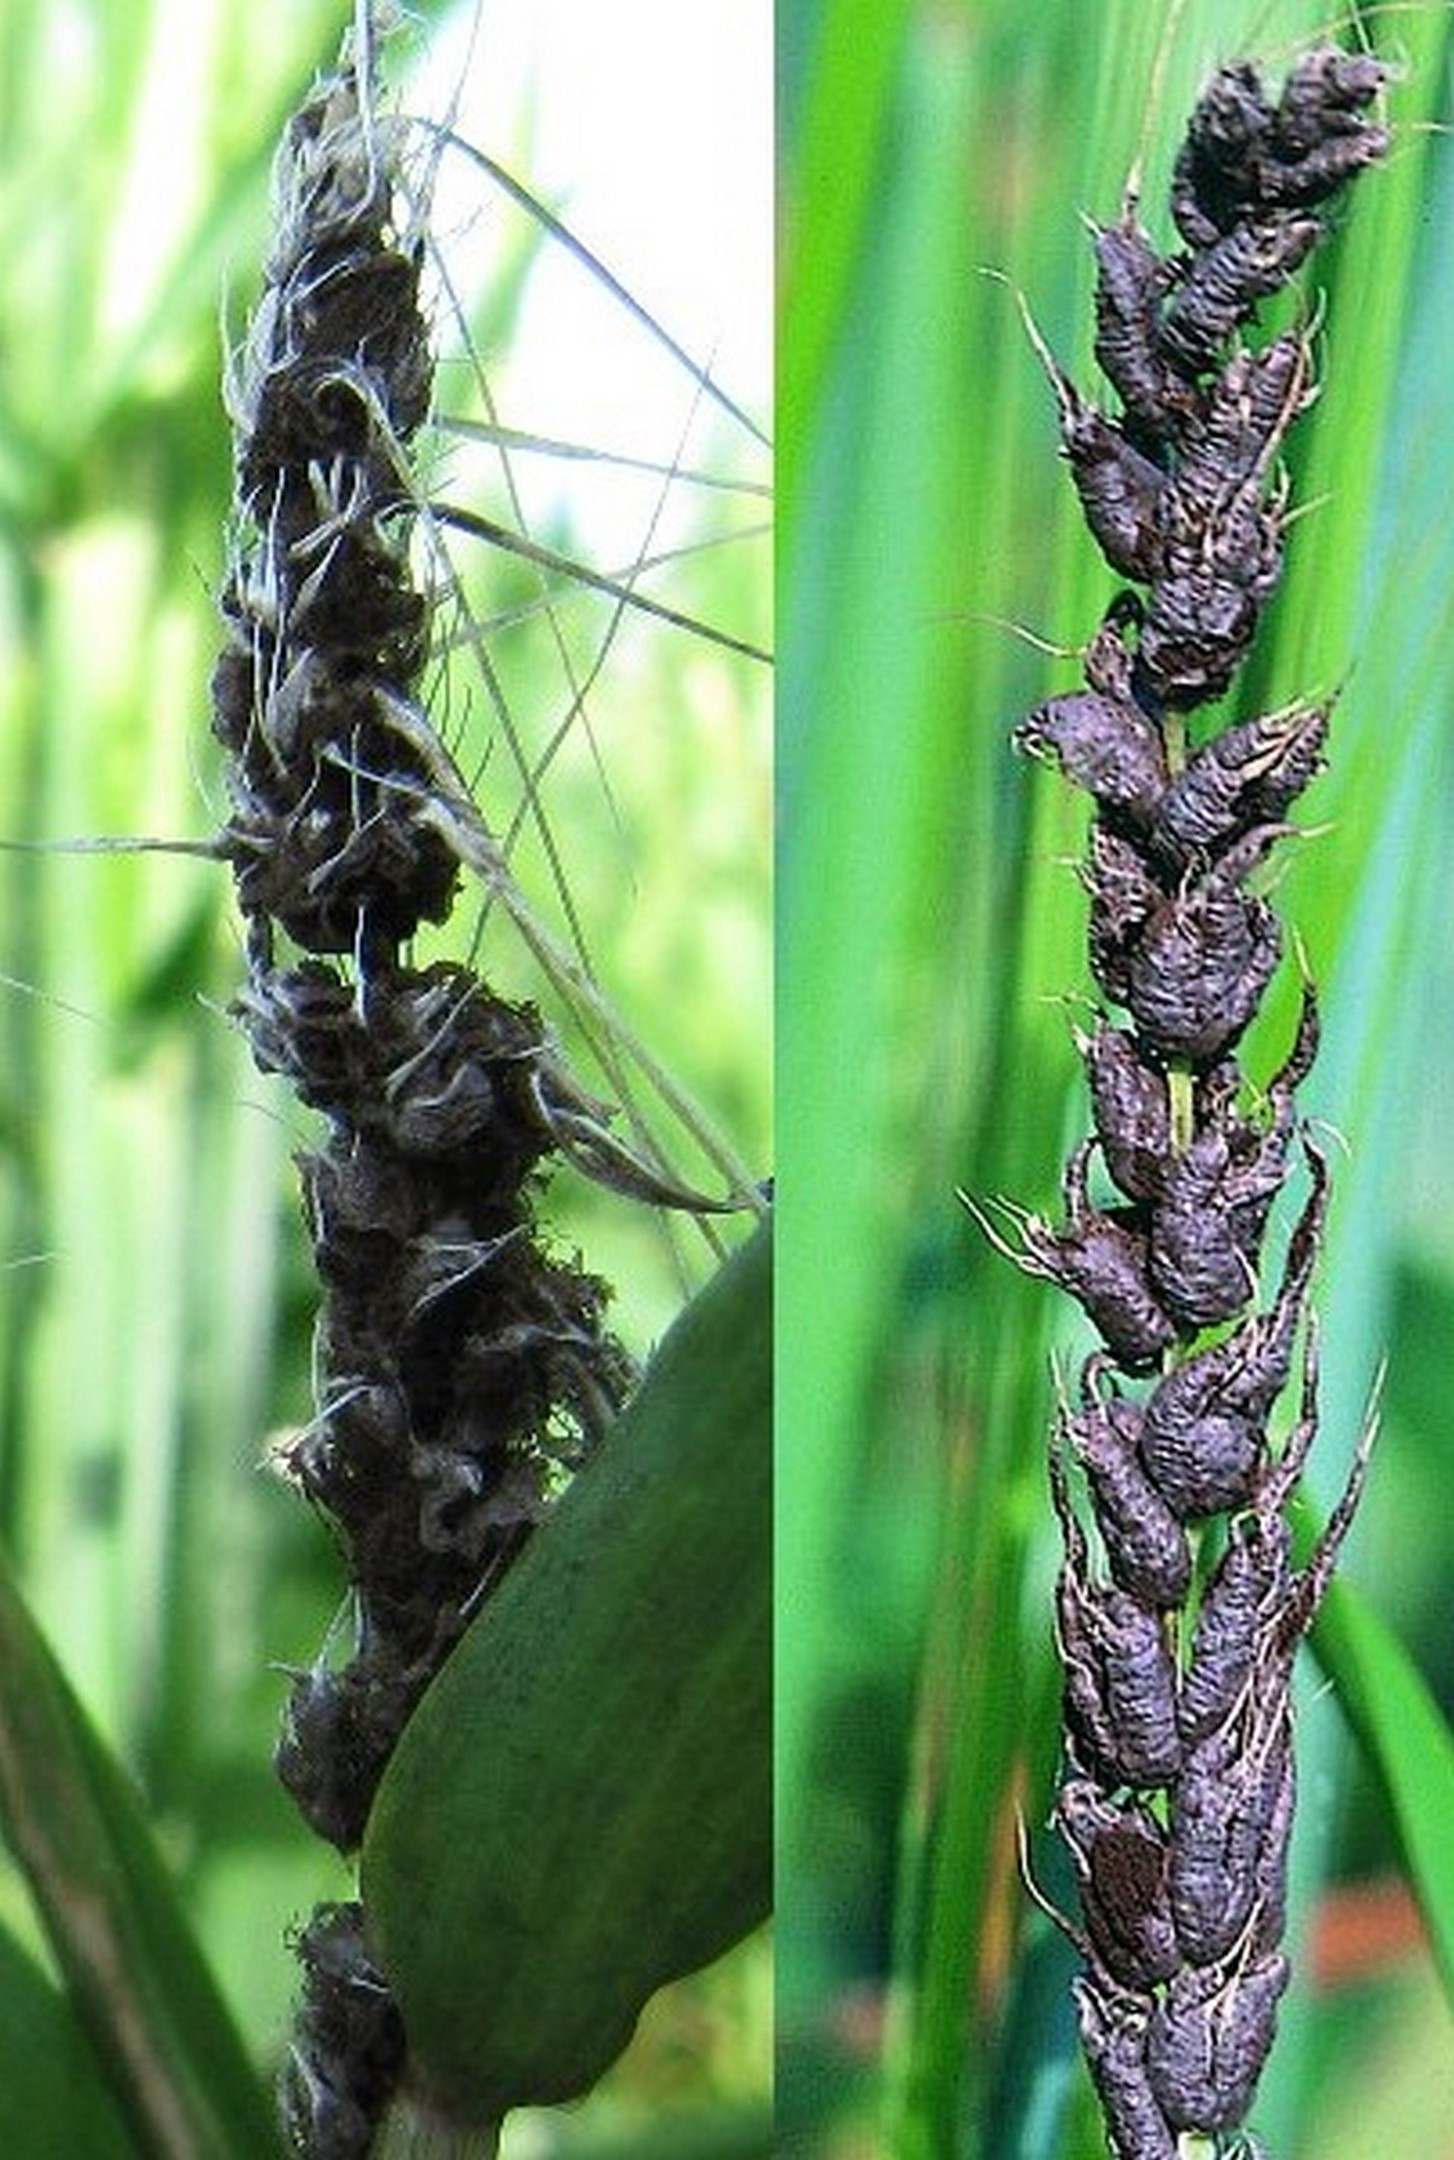Wheat Loose Smut: (977, 5, 1428, 2040), (196, 133, 626, 1689)
